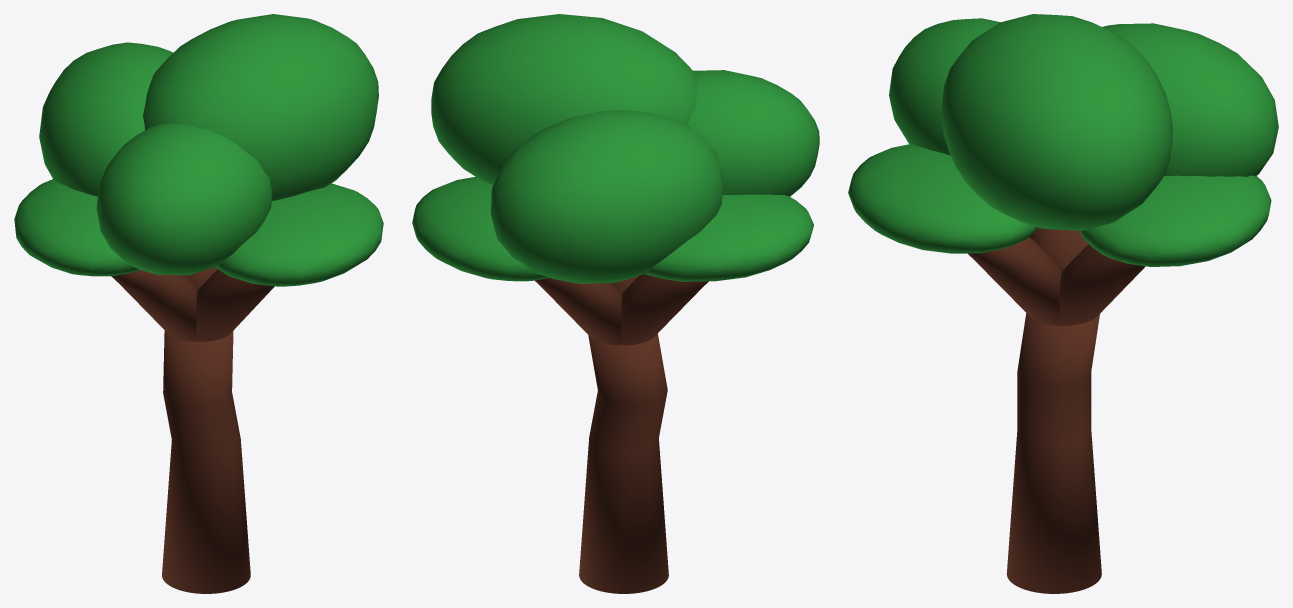
File: Tree_4.fbx
The picture shows the model from 3 angles, left to right: view 1: azimuth 30°, elevation 25°; view 2: azimuth 150°, elevation 25°; view 3: azimuth 270°, elevation 25°; orthographic projection. The views are drawn at different scales.
Parts seen in each view (by area): view 1: Tree; view 2: Tree; view 3: Tree.
Boxes of the visible parts, x1,y1,x2,y2 form: Tree: (14,14,383,593); Tree: (412,14,819,593); Tree: (848,14,1278,593).
Size of the model in its own units: 468 by 686 by 470.
